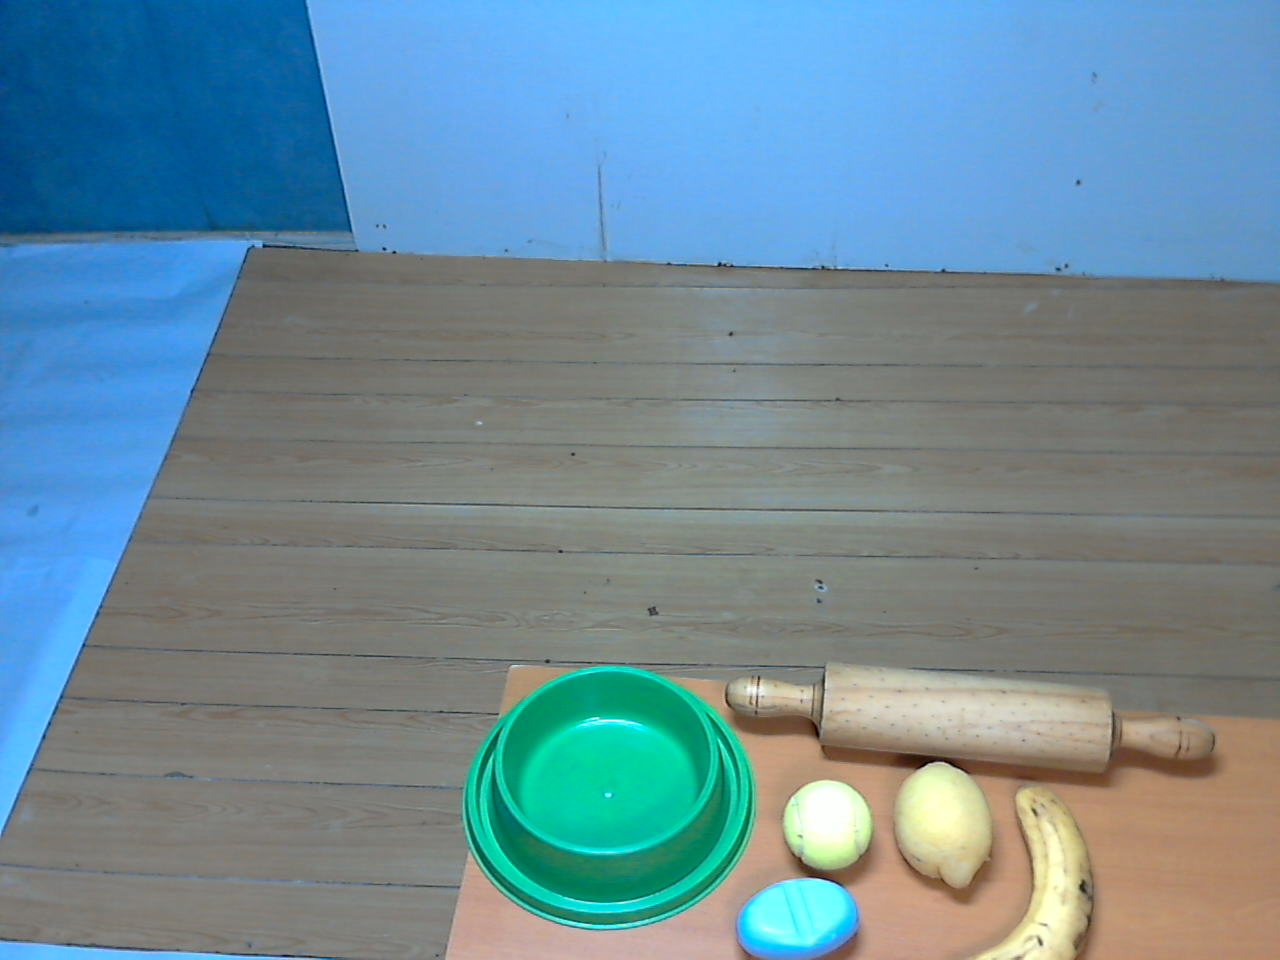jabon: (732, 869, 864, 960)
limon: (886, 750, 1002, 898)
pelota: (777, 775, 880, 886)
platano: (930, 778, 1107, 960)
platoperro: (467, 659, 761, 936)
uslero: (717, 648, 1242, 789)
